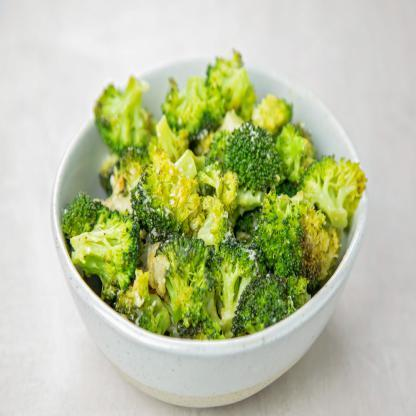broccoli: (59, 46, 370, 346)
